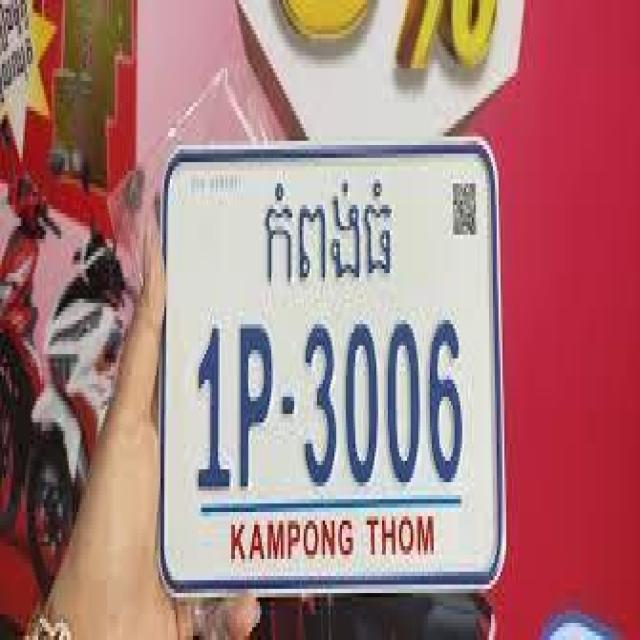Kampong_Thom: (266, 175, 401, 290)
